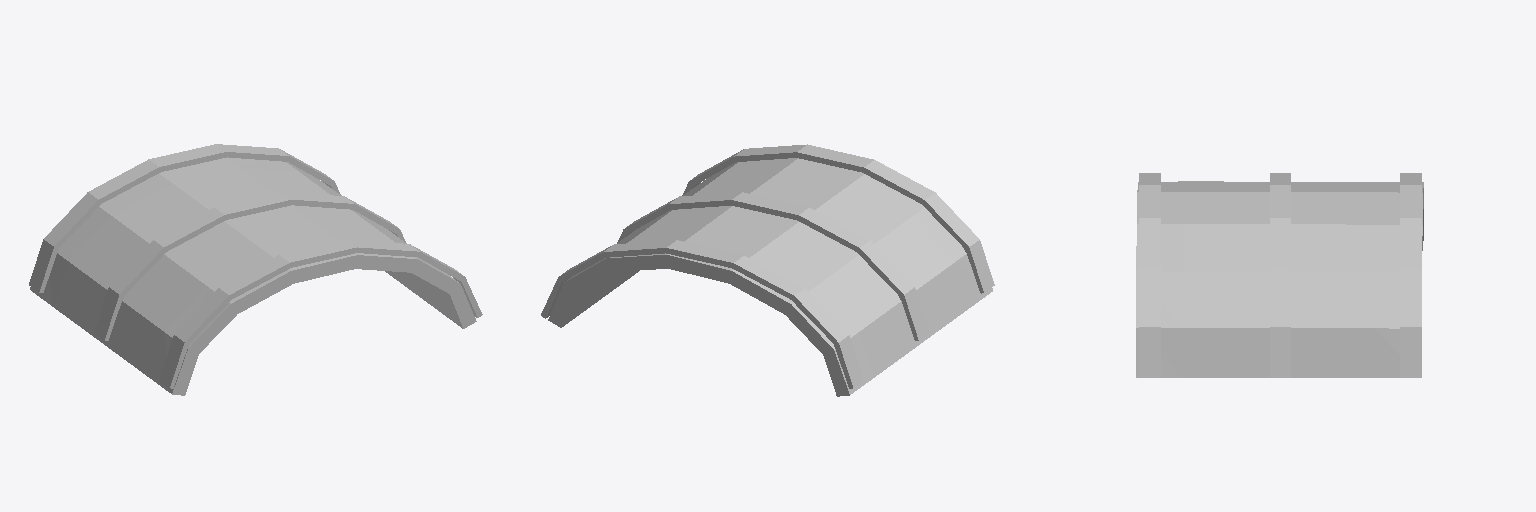
The model's file is frontRoofLP.obj.
3 renders of one model, left to right at view 1: azimuth 30°, elevation 25°; view 2: azimuth 150°, elevation 25°; view 3: azimuth 270°, elevation 25°, orthographic.
Parts seen in each view (by area): view 1: sweep4; view 2: sweep4; view 3: sweep4.
Part boxes in pixels (x1,y1,x2,y2): sweep4: (29,144,482,395); sweep4: (541,144,994,396); sweep4: (1136,173,1423,377).
Size of the model in its own units: 4.79 by 1.57 by 3.83.